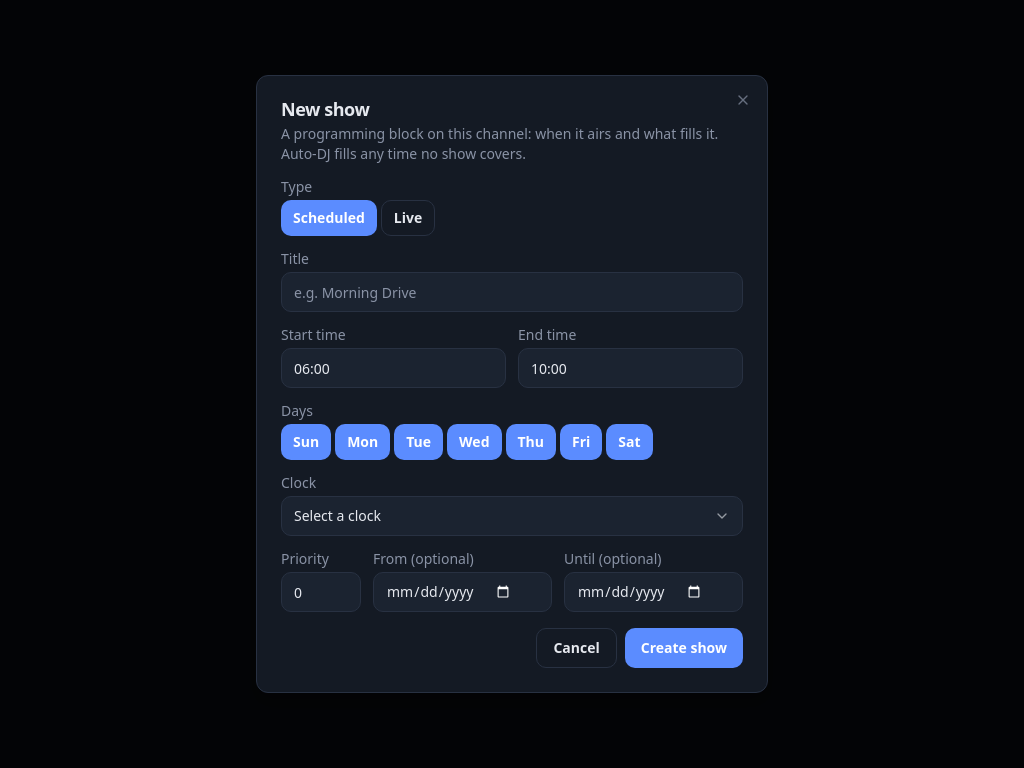
Test: ShowEditor (create) › surfaces a server error verbatim and keeps the editor open
This screenshot has width=1024, height=768.
In the field labelled "Title": (512, 292) [281,272,743,312], type "Bad Clock"
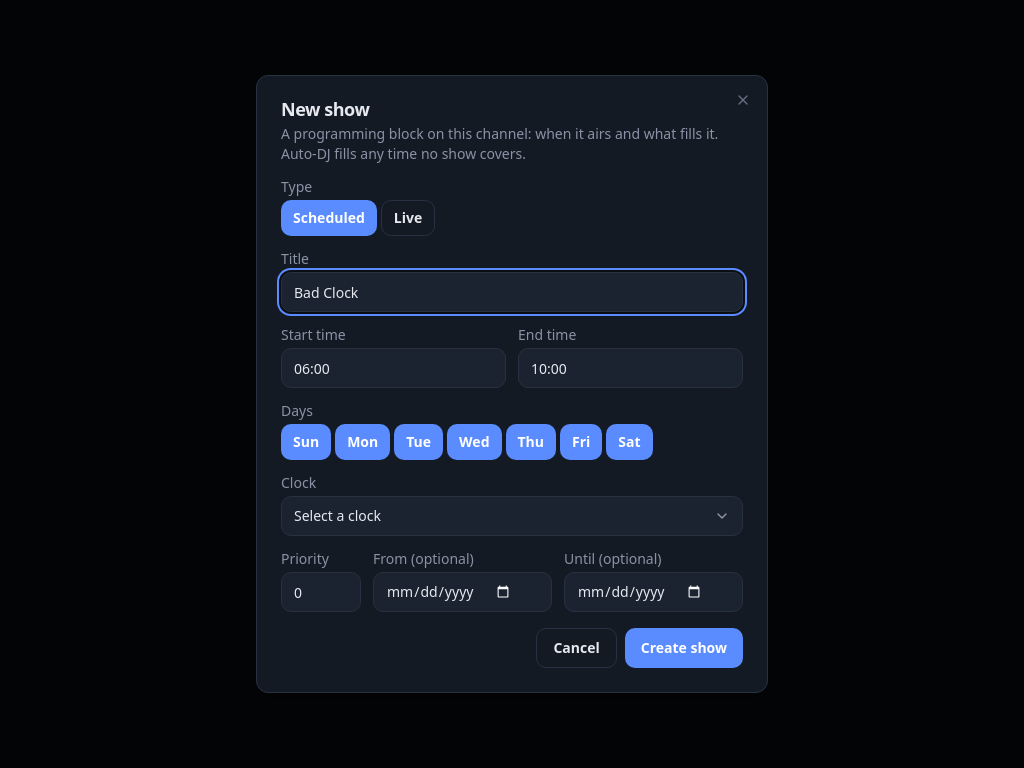
Click the dropdown labelled "Select a clock": (338, 516) [281,496,743,536]
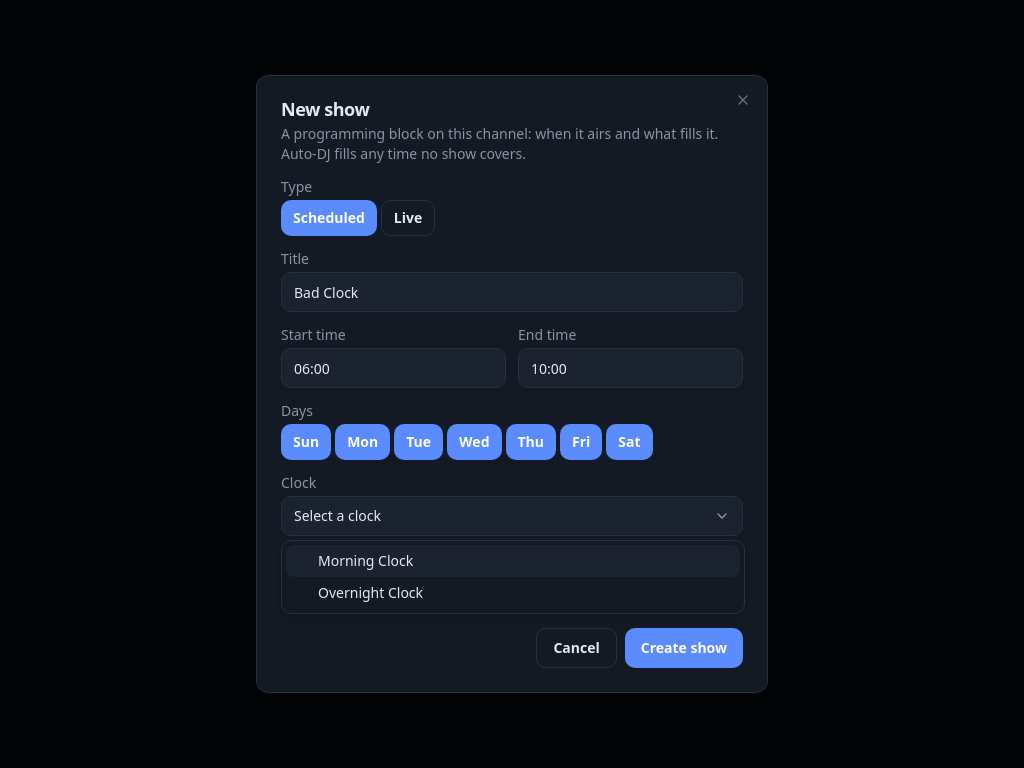
Click the option "Morning Clock": (366, 560) [286,545,740,577]
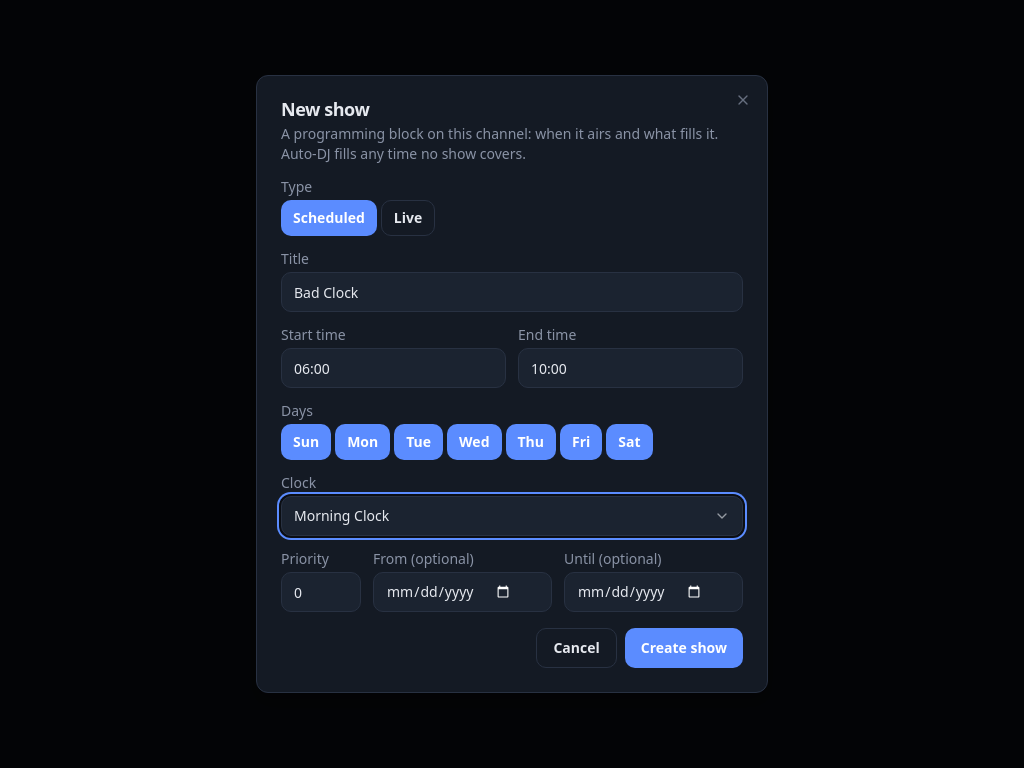
Click the button "Create show": (684, 648) [625,628,743,668]
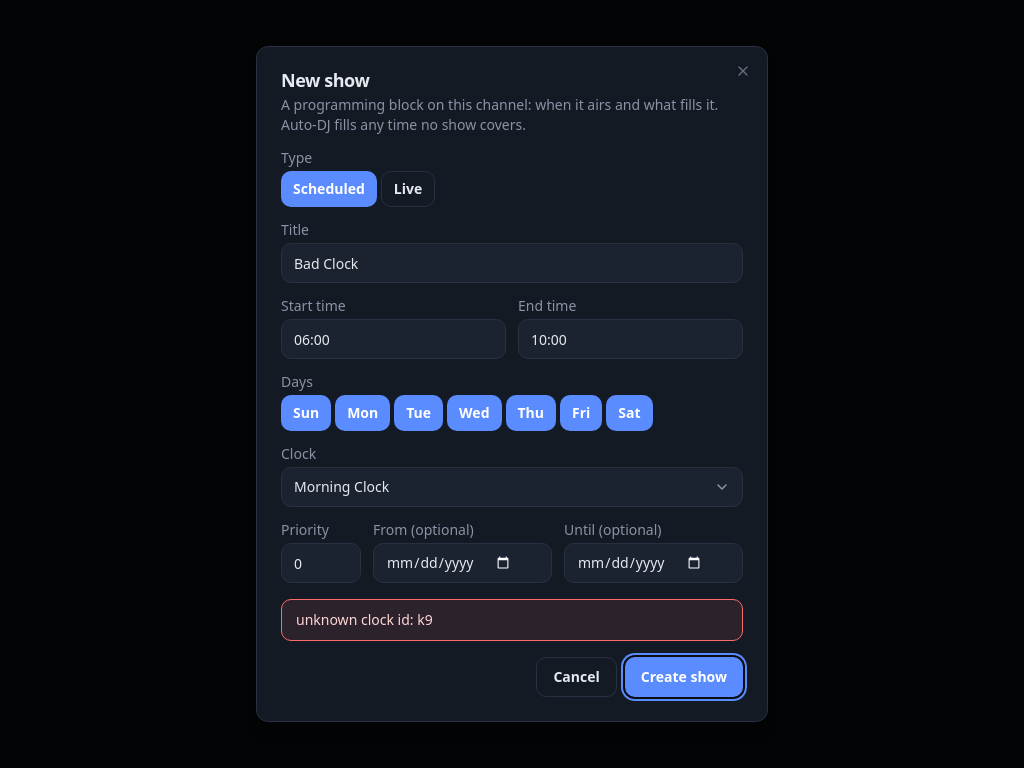
Expected: the text "unknown clock id: k9" is shown, [281,599,743,641]
